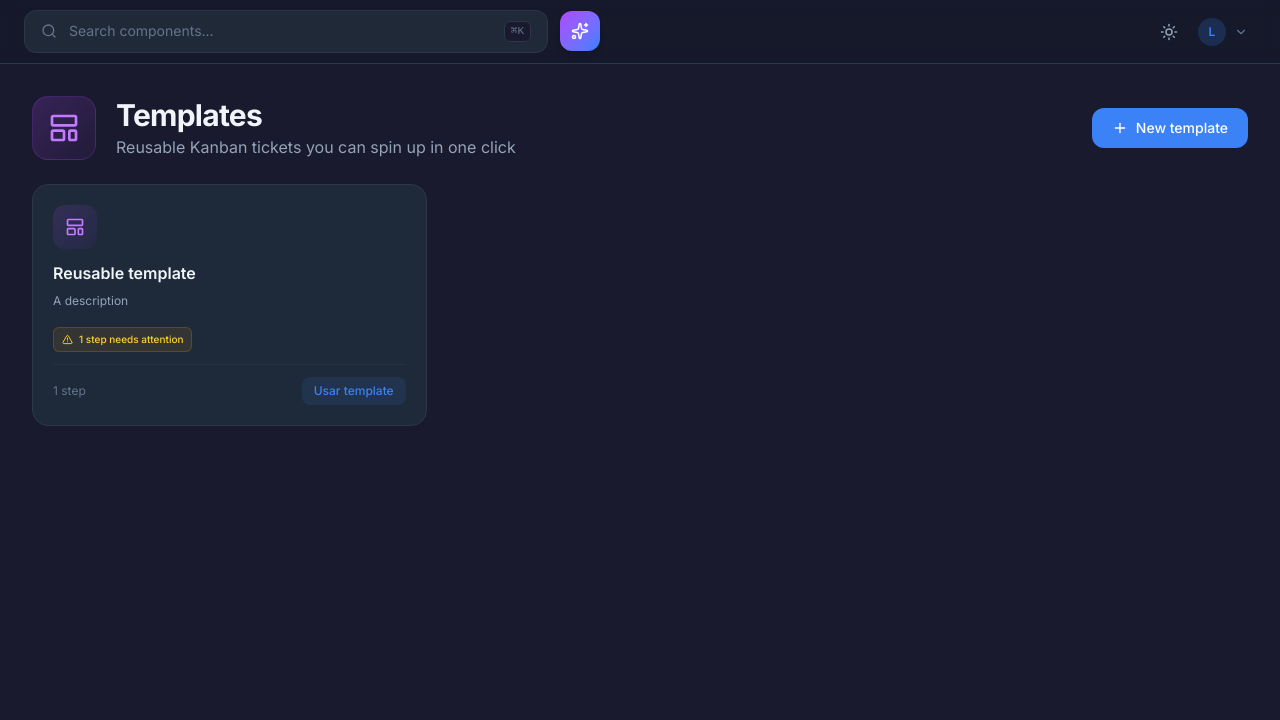
Test: TemplatesPage › "Usar template" CTA (issue #356) › clicking the "Usar template" CTA opens the UseTemplateModal, not the edit drawer
Click the button "Usar template": (354, 390) [302, 376, 406, 404]
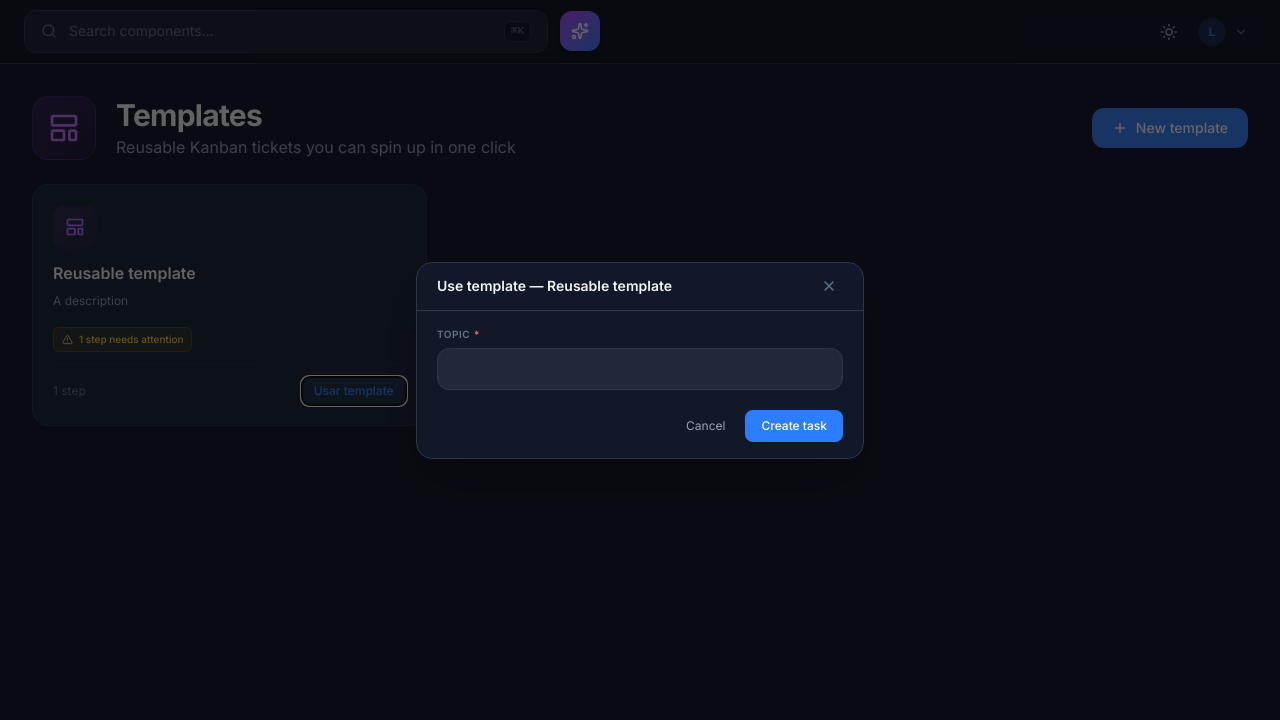
Expected: the heading "Use template — Reusable template" is shown, [437, 276, 672, 296]
